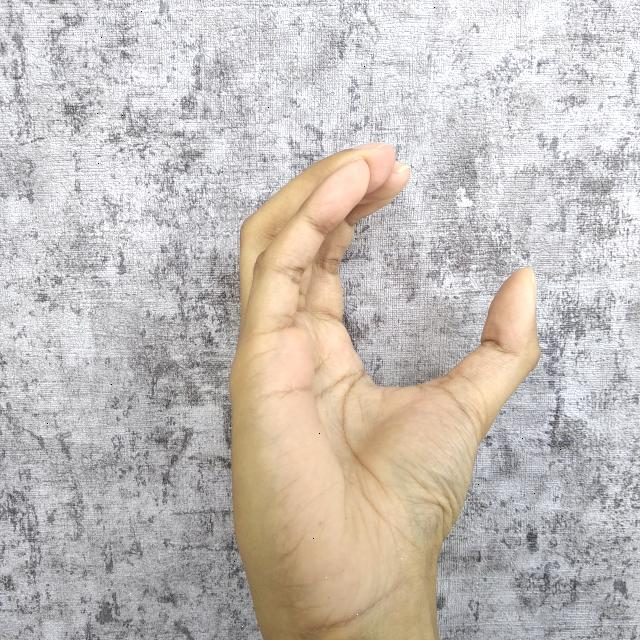C: (223, 139, 545, 640)
